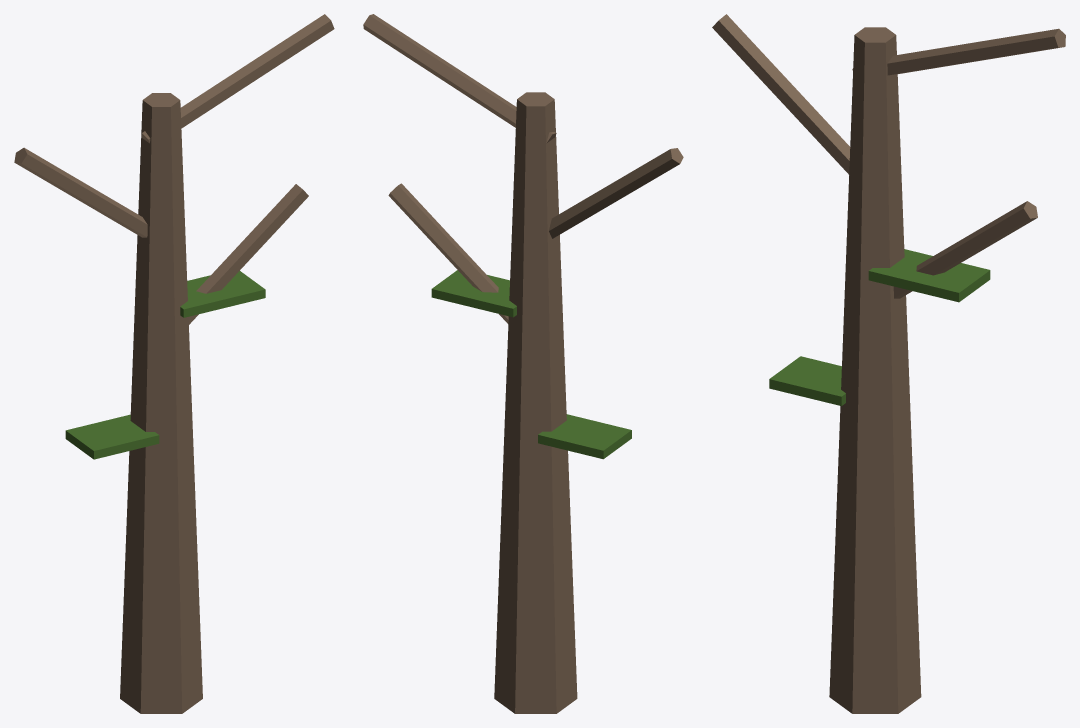
File: swamp_tree_dead.glb
3 views of the same model, side by side, from view 1: azimuth 30°, elevation 25°; view 2: azimuth 150°, elevation 25°; view 3: azimuth 330°, elevation 25° (orthographic). The views are drawn at different scales.
Parts seen in each view (by area): view 1: swamp_tree_dead; view 2: swamp_tree_dead; view 3: swamp_tree_dead.
Part boxes in pixels (x1,y1,x2,y2): swamp_tree_dead: [14, 14, 334, 713]; swamp_tree_dead: [363, 14, 683, 713]; swamp_tree_dead: [712, 14, 1065, 713].
Size of the model in its own units: 1.93 by 3.76 by 0.44.
